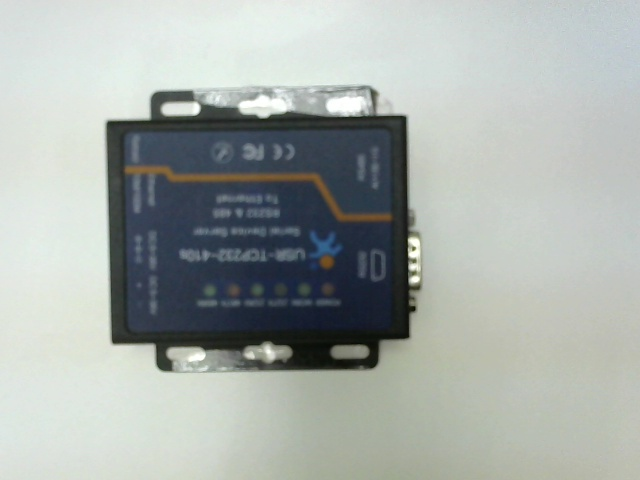modbus bridge: (80, 74, 452, 394)
